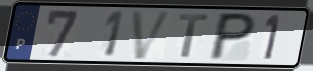1: (102, 9, 126, 60), (263, 14, 282, 63)
7: (44, 8, 82, 59)
P: (206, 11, 260, 62)
T: (177, 13, 211, 59)
V: (129, 9, 175, 61)
